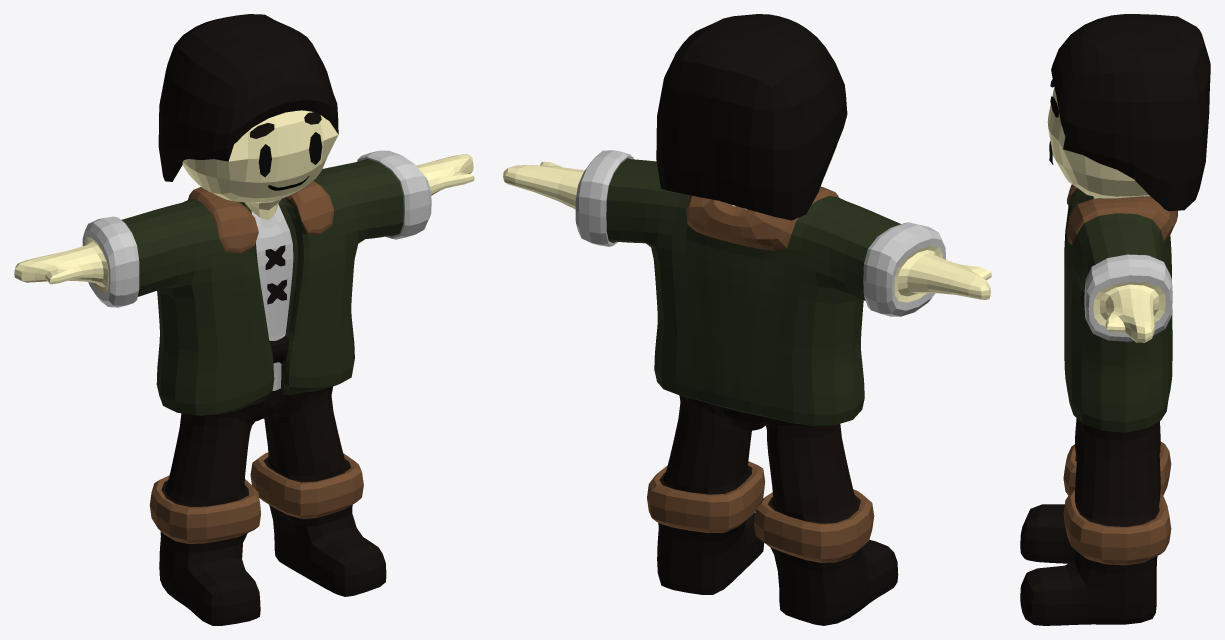
Rendered from Forest Drift Charachter.obj.
The picture shows the model from 3 angles, left to right: view 1: azimuth 30°, elevation 25°; view 2: azimuth 150°, elevation 25°; view 3: azimuth 270°, elevation 25°; orthographic projection. The views are drawn at different scales.
Visible parts, largest first — view 1: Cube.002; view 2: Cube.002; view 3: Cube.002.
Part boxes in pixels (box(x1,y1,x2,y2)): Cube.002: box(14, 14, 474, 625); Cube.002: box(503, 14, 991, 625); Cube.002: box(1020, 14, 1210, 625).
Bounding box in the file's own units: 16.18 × 18.11 × 5.65.
